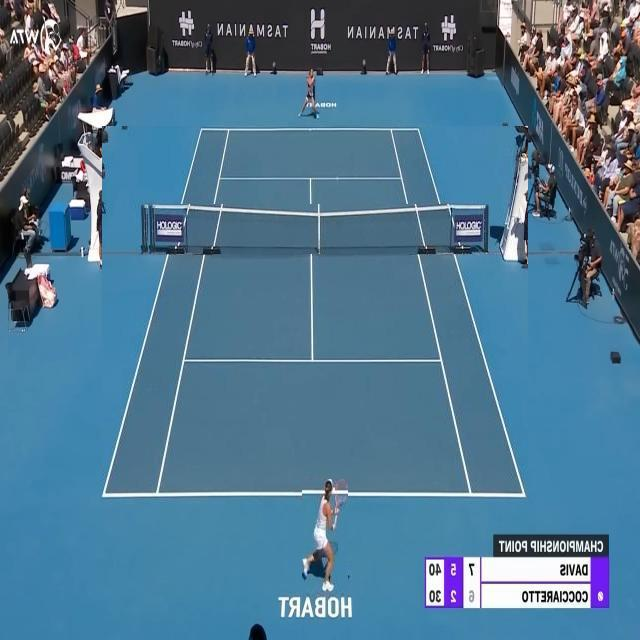court: (102, 126, 528, 500)
net: (148, 204, 490, 254)
player: (302, 480, 348, 596)
